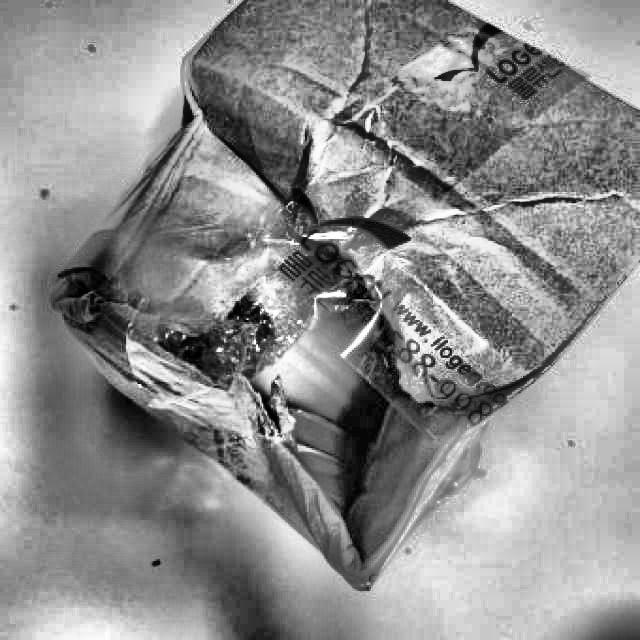box: (38, 0, 639, 602)
hole: (166, 288, 289, 418)
